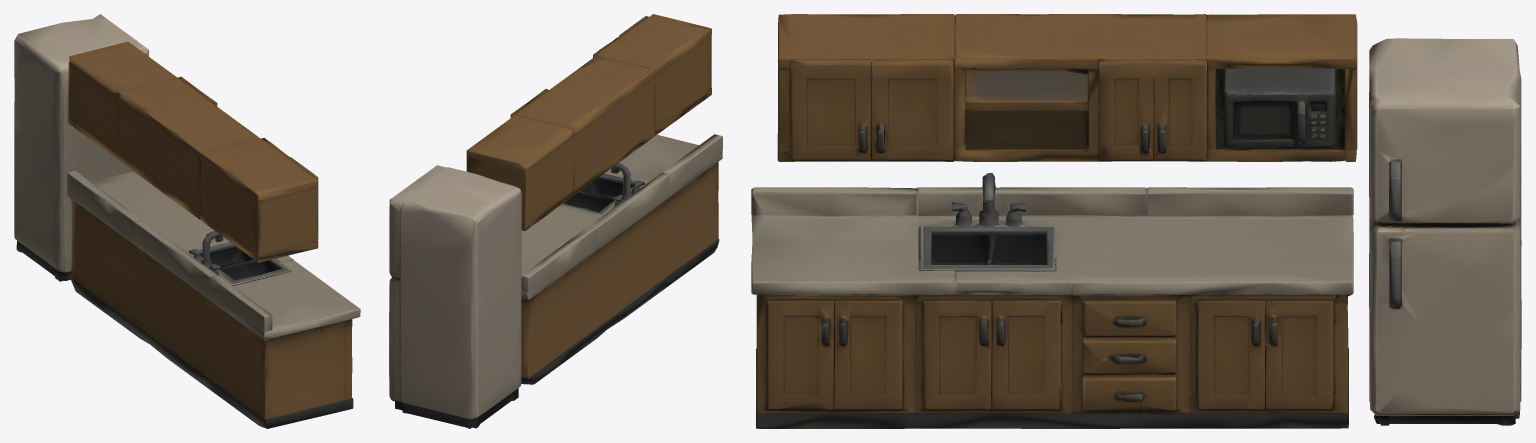
File: kitchen_fridge.fbx
3 renders of one model, left to right at view 1: azimuth 30°, elevation 25°; view 2: azimuth 150°, elevation 25°; view 3: azimuth 270°, elevation 25°, orthographic. The views are drawn at different scales.
Parts seen in each view (by area): view 1: tripo_node_60263ebb; view 2: tripo_node_60263ebb; view 3: tripo_node_60263ebb.
Boxes of the visible parts, x1=… form: tripo_node_60263ebb: x1=14, y1=14, x2=360, y2=428; tripo_node_60263ebb: x1=389, y1=14, x2=722, y2=428; tripo_node_60263ebb: x1=751, y1=14, x2=1521, y2=428.
Size of the model in its own units: 0.2239 by 0.4945 by 0.9796.
